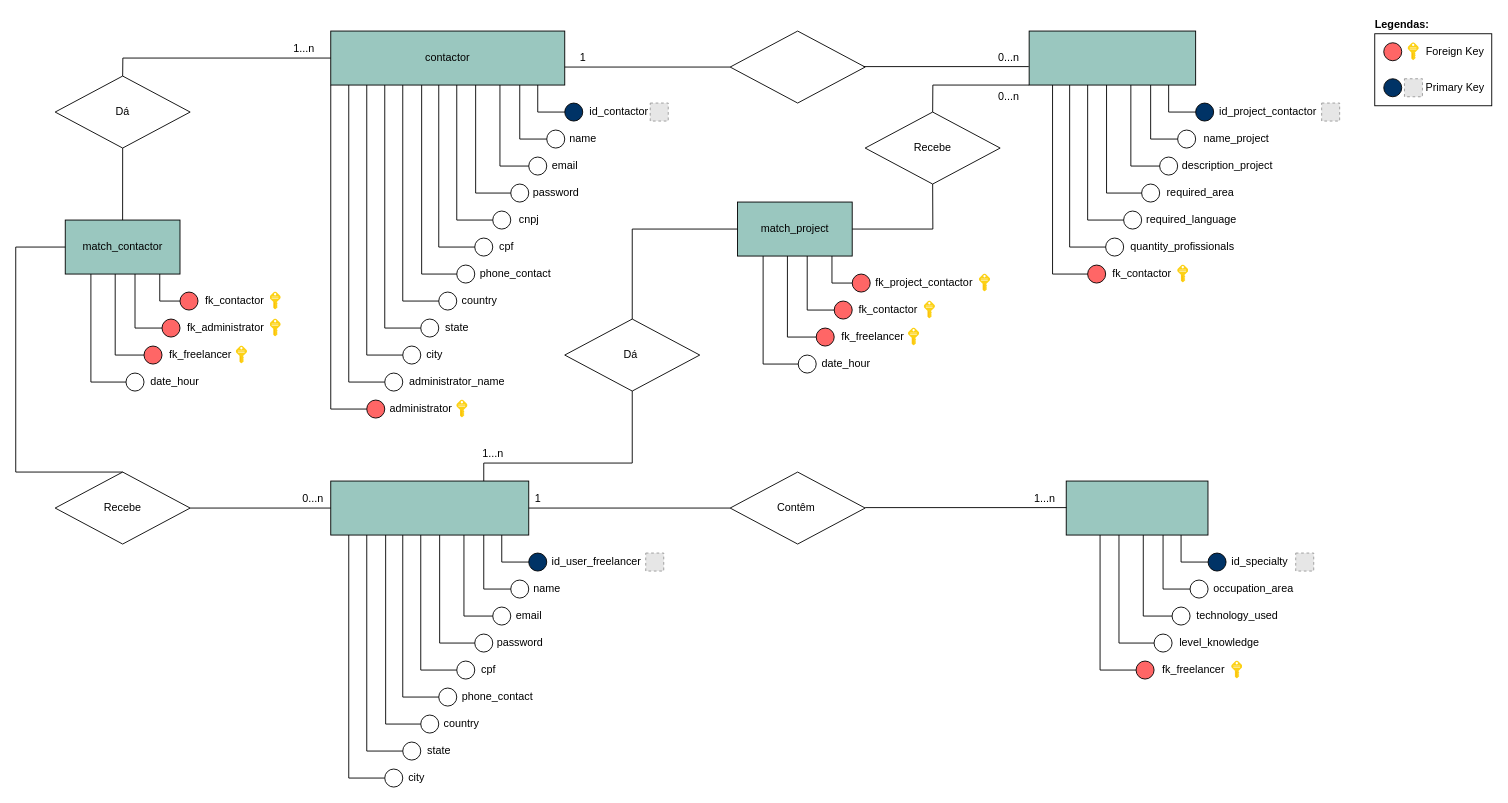
This 1508x803 diagram has some shape labels left out. Grey dashed boxes stand in for pictures. Here are the shapes that lost their labels. From the top down, the centre of each, then its label:
At (x=797, y=66): "Possui".
At (x=1112, y=57): "register_project_contactor".
At (x=429, y=507): "user_freelancer".
At (x=1136, y=507): "register_specialty_user".
